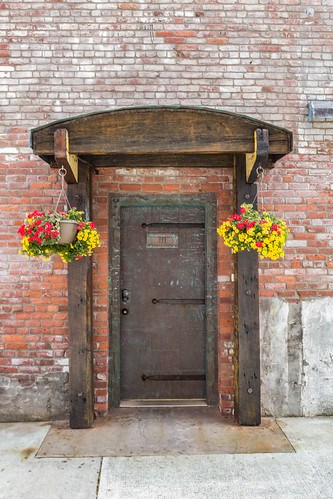door: (103, 196, 219, 411)
flowers: (16, 210, 102, 272), (226, 205, 299, 271)
wall: (1, 1, 326, 413)
